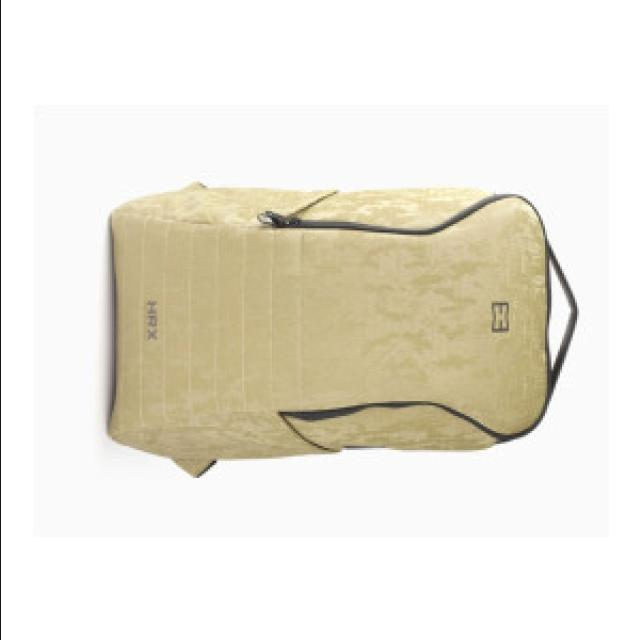backpack: (108, 183, 582, 479)
